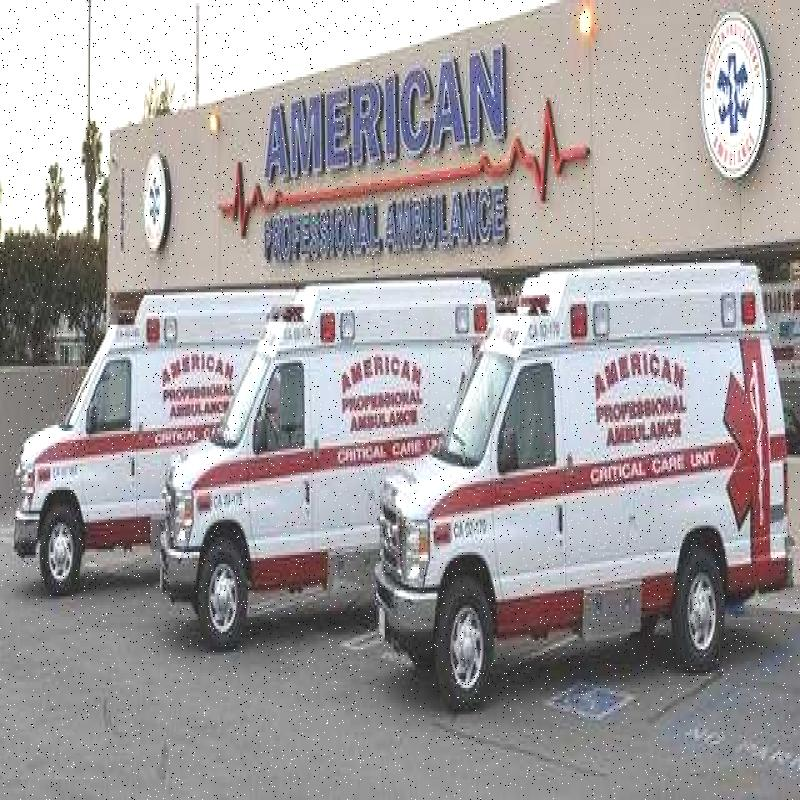AmbulanceSiren: (491, 286, 560, 326), (259, 296, 311, 329)
